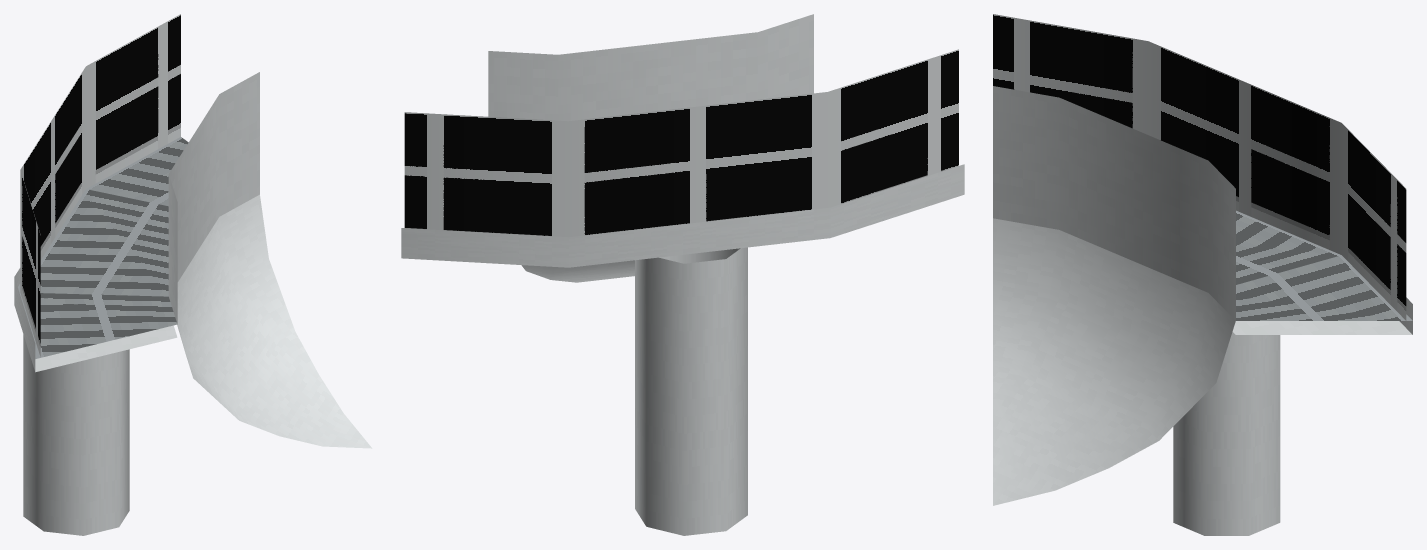
File: bowl_small_0_0_0.obj
3 renders of one model, left to right at view 1: azimuth 30°, elevation 25°; view 2: azimuth 150°, elevation 25°; view 3: azimuth 270°, elevation 25°, orthographic. The views are drawn at different scales.
Visible parts, largest first — view 1: bowl_small_0_0_0; view 2: bowl_small_0_0_0; view 3: bowl_small_0_0_0.
Part boxes in pixels (x1,y1,x2,y2): bowl_small_0_0_0: (14,14,372,535); bowl_small_0_0_0: (401,14,964,535); bowl_small_0_0_0: (993,14,1412,535).
Bounding box in the file's own units: 2.7 × 3 × 2.7.
